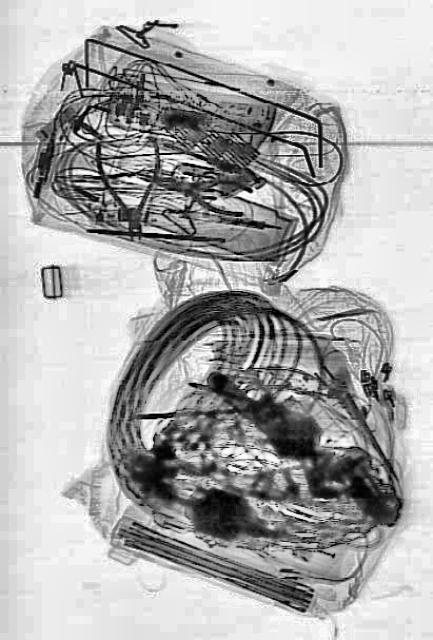Pliers: (94, 130, 164, 244), (136, 156, 252, 220)
